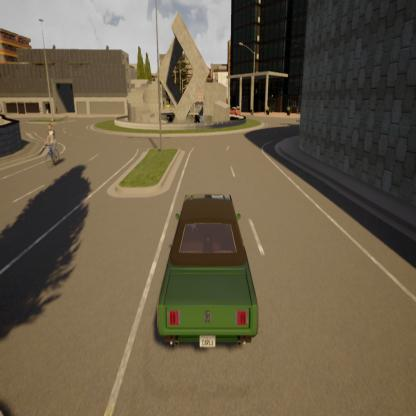Cars: (147, 184, 264, 367), (229, 100, 245, 118)
